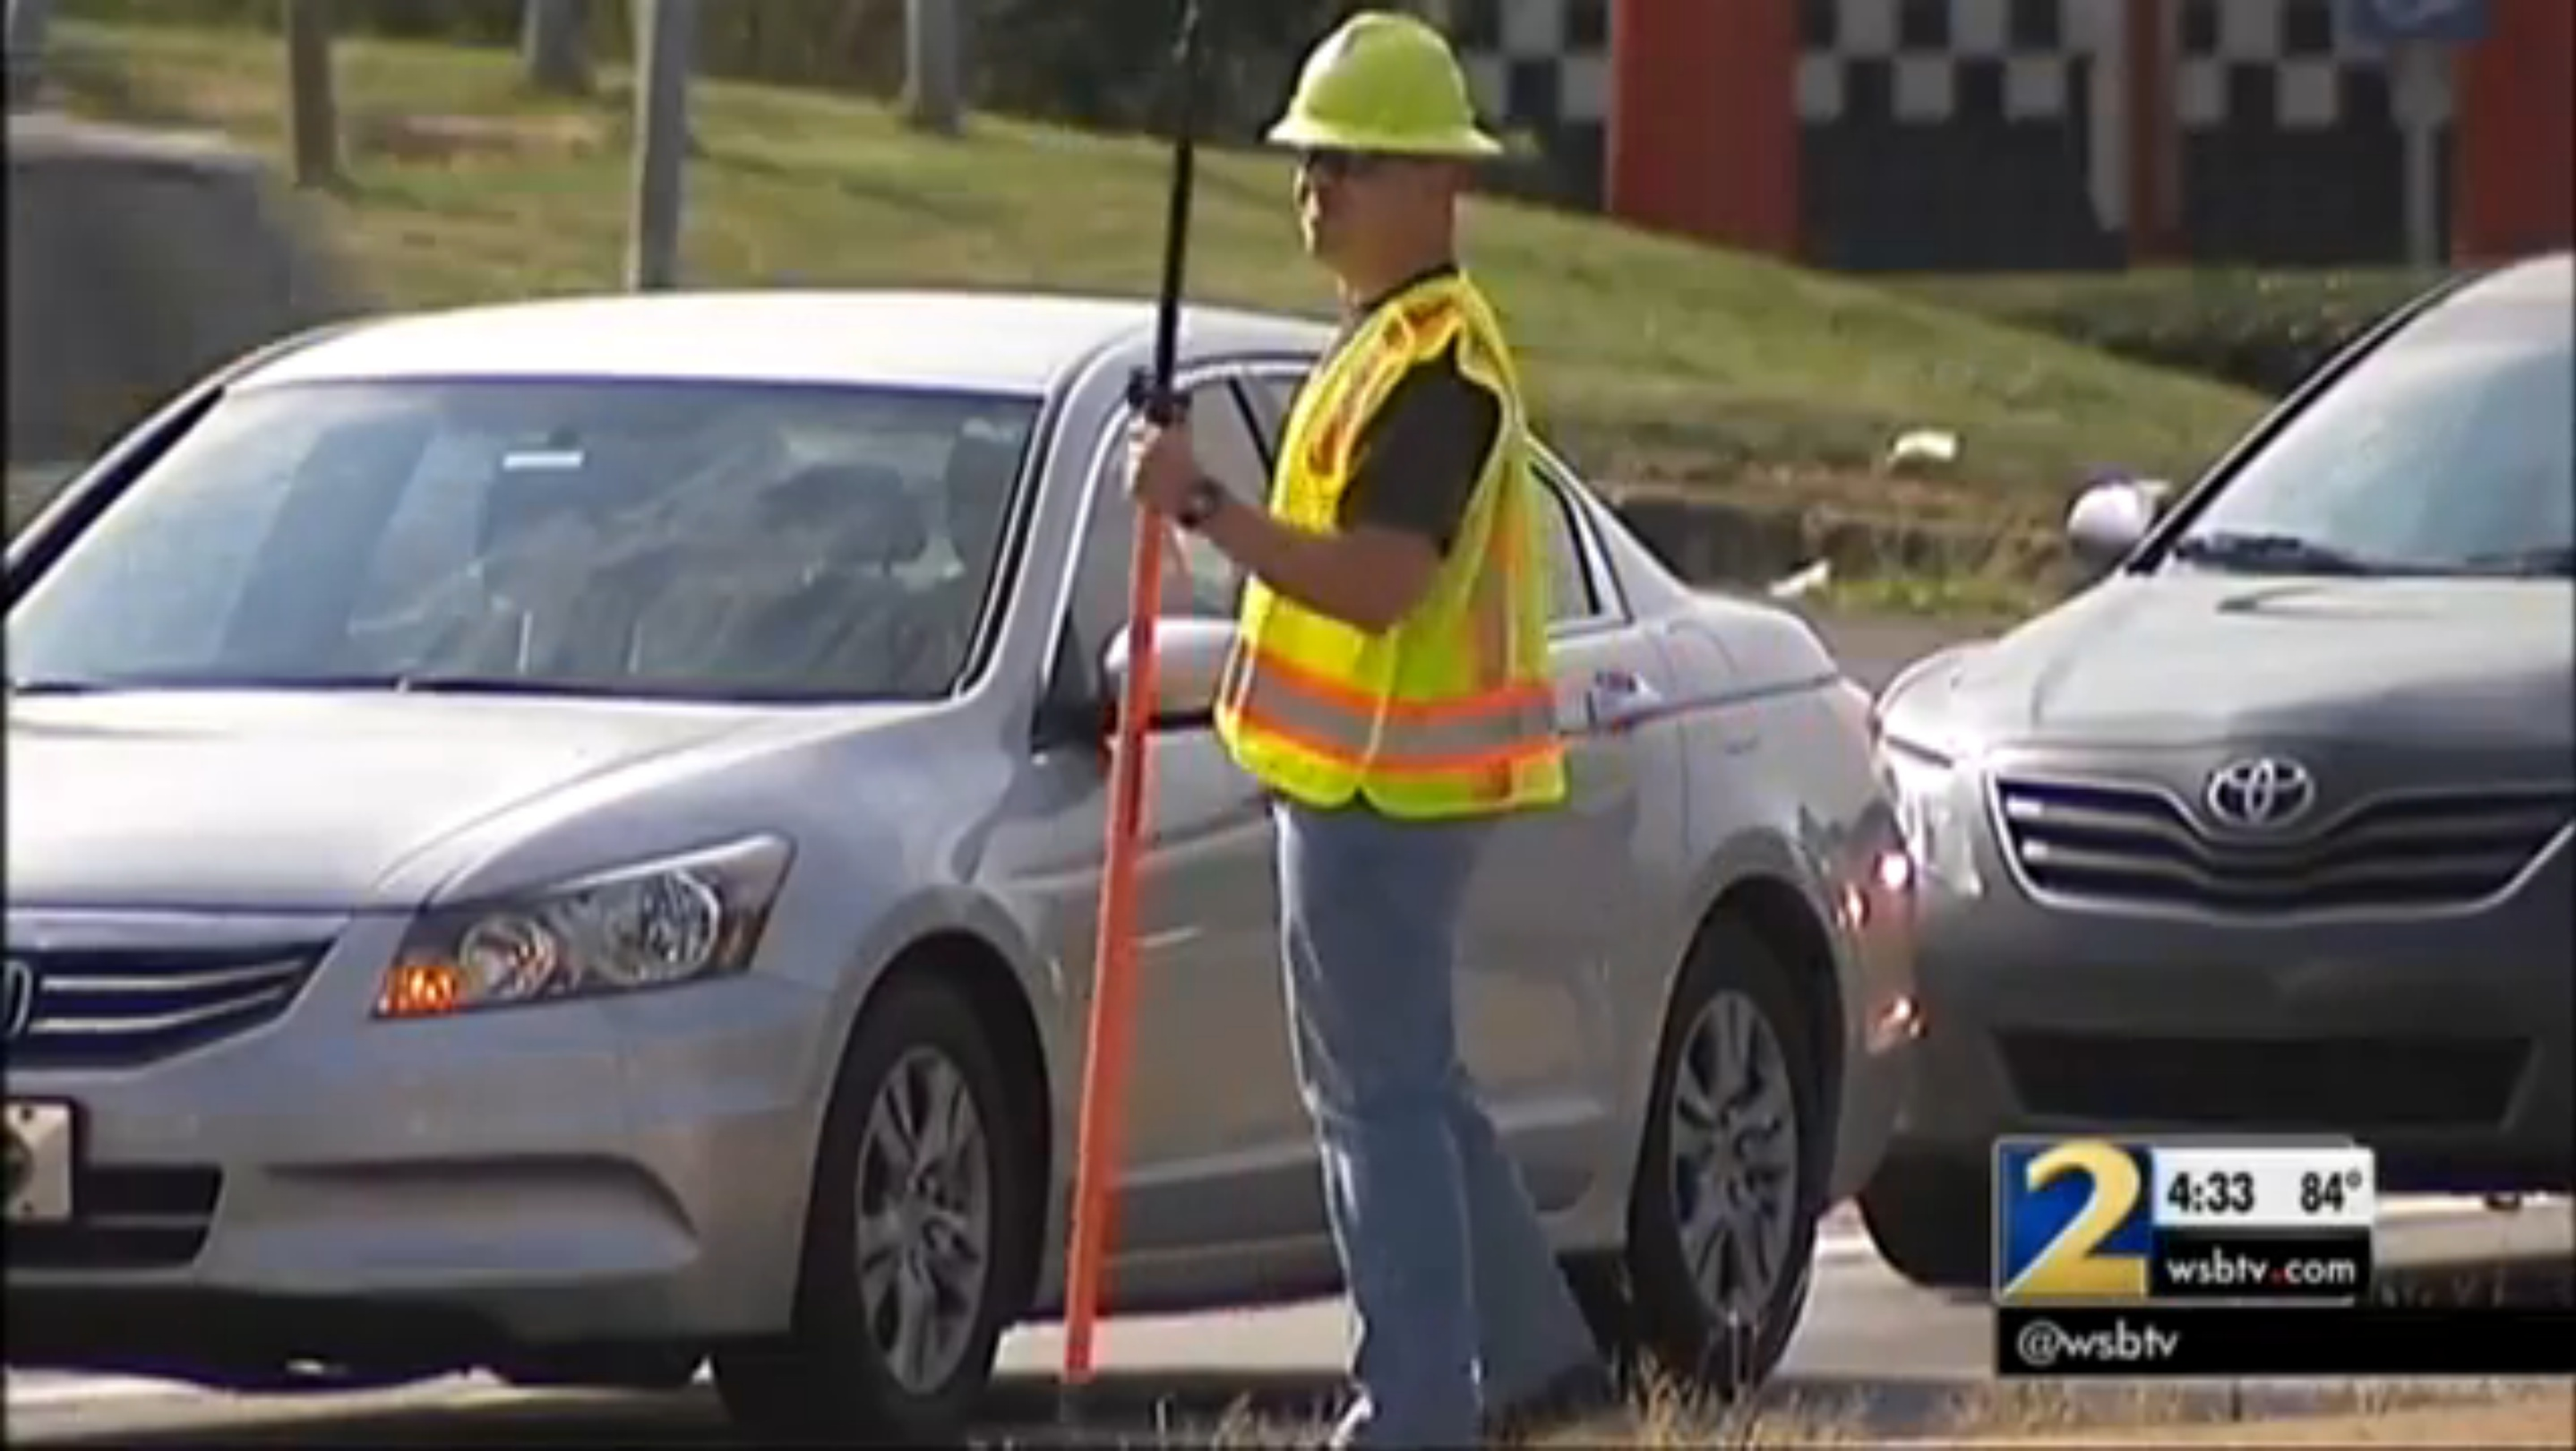yellow: (1272, 9, 1481, 283)
